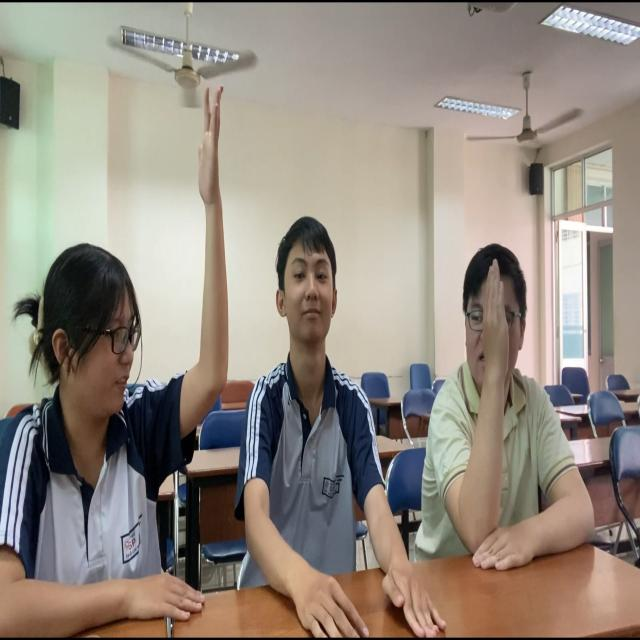raise_hand: (6, 47, 243, 640), (420, 205, 607, 607)
